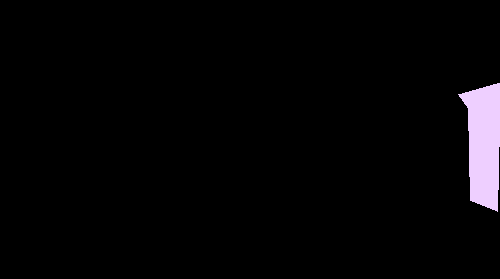Train: (458, 82, 500, 211)
